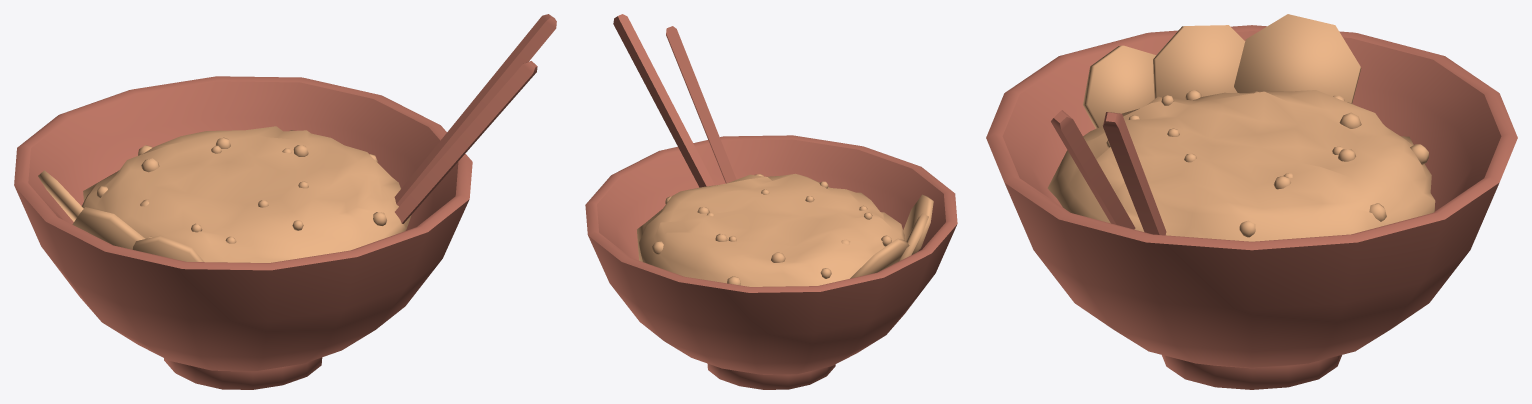
Rendered from M_ArrozAlWok.fbx.
The picture shows the model from 3 angles, left to right: view 1: azimuth 30°, elevation 25°; view 2: azimuth 150°, elevation 25°; view 3: azimuth 270°, elevation 25°; orthographic projection. The views are drawn at different scales.
Visible parts, largest first — view 1: TazónArroz, Arroz, Palillo_02, Palillo_01, Tomate_02, Arbejas, Tomate_03, Tomate_01; view 2: TazónArroz, Arroz, Palillo_02, Palillo_01, Arbejas, Tomate_01, Tomate_03, Tomate_02; view 3: TazónArroz, Arroz, Tomate_01, Tomate_02, Tomate_03, Palillo_02, Palillo_01, Arbejas.
Part boxes in pixels (bbox=[...]): TazónArroz: bbox=[14, 76, 472, 389]; Arroz: bbox=[81, 126, 411, 262]; Palillo_02: bbox=[394, 14, 556, 206]; Palillo_01: bbox=[395, 61, 537, 223]; Tomate_02: bbox=[72, 207, 144, 249]; Arbejas: bbox=[96, 137, 386, 243]; Tomate_03: bbox=[132, 235, 203, 261]; Tomate_01: bbox=[38, 170, 83, 221]; TazónArroz: bbox=[585, 135, 957, 389]; Arroz: bbox=[637, 173, 904, 286]; Palillo_02: bbox=[613, 14, 714, 187]; Palillo_01: bbox=[666, 26, 736, 183]; Arbejas: bbox=[652, 174, 891, 285]; Tomate_01: bbox=[850, 238, 909, 278]; Tomate_03: bbox=[903, 194, 933, 254]; Tomate_02: bbox=[898, 213, 928, 261]; TazónArroz: bbox=[986, 25, 1517, 389]; Arroz: bbox=[1047, 90, 1435, 241]; Tomate_01: bbox=[1234, 14, 1361, 103]; Tomate_02: bbox=[1153, 25, 1245, 99]; Tomate_03: bbox=[1083, 45, 1155, 128]; Palillo_02: bbox=[1103, 112, 1166, 235]; Palillo_01: bbox=[1051, 110, 1135, 229]; Arbejas: bbox=[1106, 89, 1428, 237].
Size of the model in its own units: 201 by 138 by 176.
